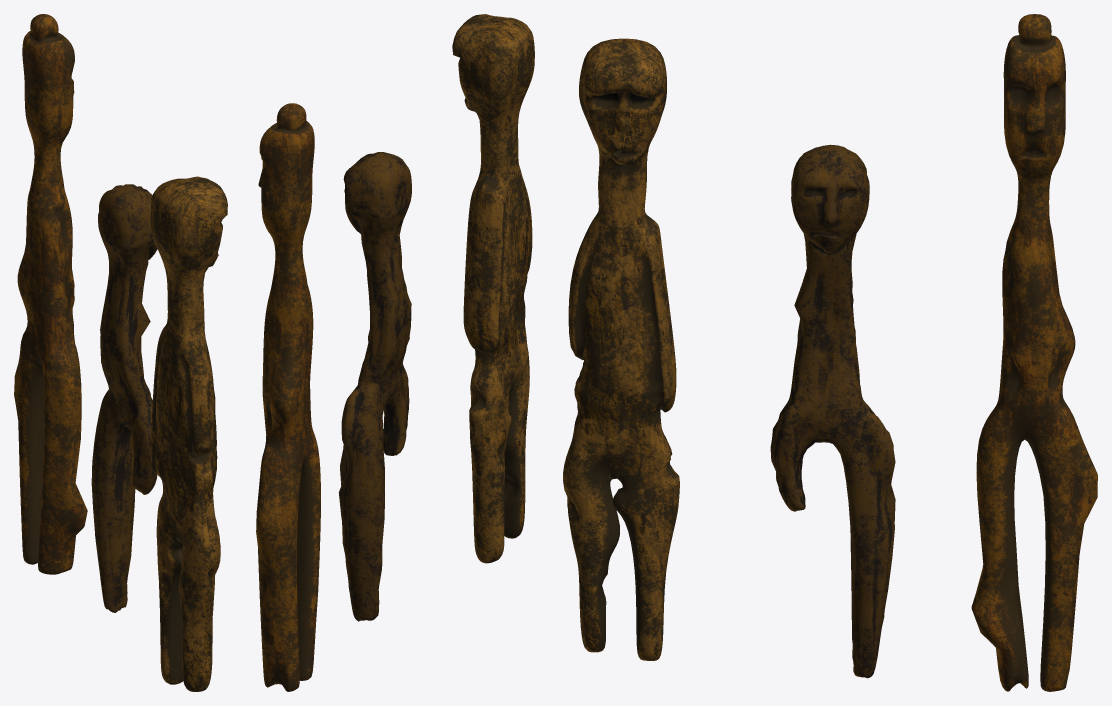
File: anthropomorphic_god.glb
The picture shows the model from 3 angles, left to right: view 1: azimuth 30°, elevation 25°; view 2: azimuth 150°, elevation 25°; view 3: azimuth 270°, elevation 25°; orthographic projection. The views are drawn at different scales.
Visible parts, largest first — view 1: God_01, base_Mesh.002, God_03.001; view 2: God_01, base_Mesh.002, God_03.001; view 3: God_01, base_Mesh.002, God_03.001.
Boxes of the visible parts, left/top/right/bottom form: God_01: left=150, top=176, right=227, bottom=691; base_Mesh.002: left=14, top=14, right=87, bottom=574; God_03.001: left=91, top=184, right=157, bottom=612; God_01: left=452, top=14, right=534, bottom=563; base_Mesh.002: left=256, top=103, right=320, bottom=691; God_03.001: left=338, top=152, right=411, bottom=621; God_01: left=563, top=38, right=679, bottom=660; base_Mesh.002: left=971, top=14, right=1097, bottom=691; God_03.001: left=770, top=144, right=895, bottom=678.
Size of the model in its own units: 0.2116 by 1.3 by 0.9452.
3 materials, 3 textured.
